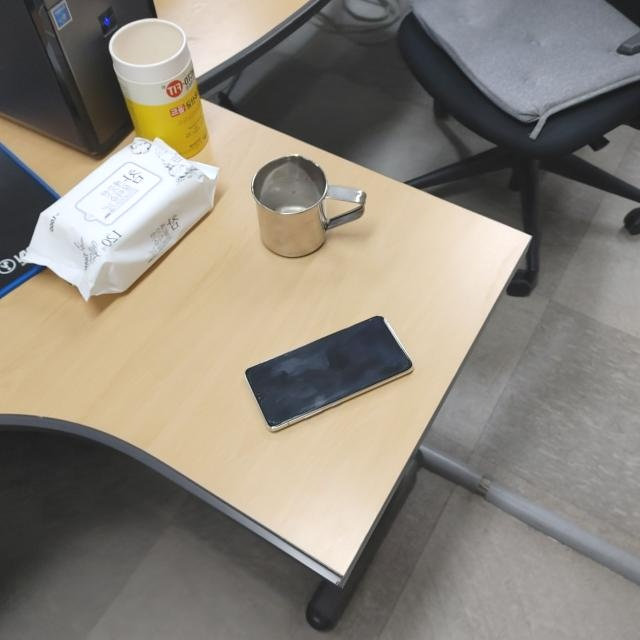cup: (249, 152, 367, 260)
phone: (242, 313, 416, 437)
